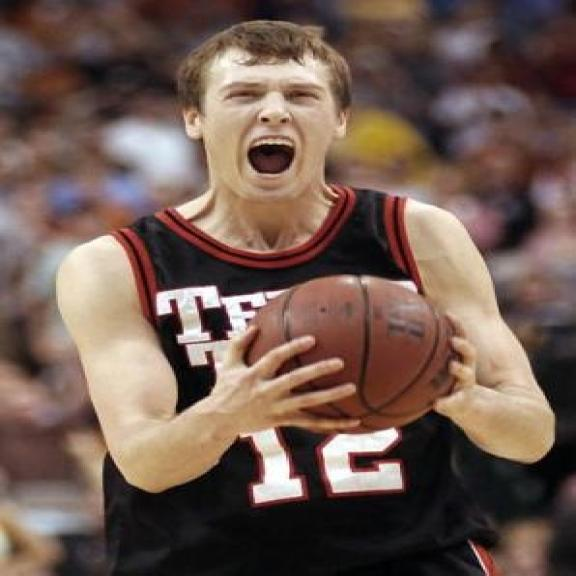face: (178, 44, 354, 208)
